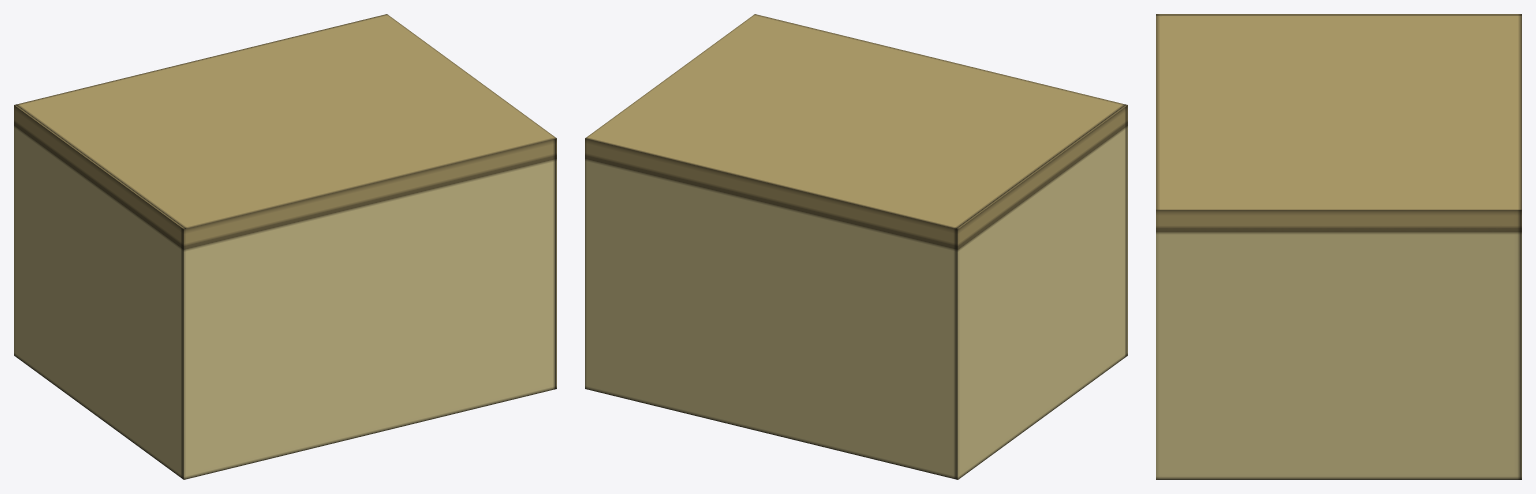
Rendered from case2.fbx.
3 views of the same model, side by side, from view 1: azimuth 30°, elevation 25°; view 2: azimuth 150°, elevation 25°; view 3: azimuth 270°, elevation 25° (orthographic). The views are drawn at different scales.
Visible parts, largest first — view 1: polySurface1561; view 2: polySurface1561; view 3: polySurface1561.
Boxes of the visible parts, x1,y1,x2,y2 form: polySurface1561: [14, 14, 556, 479]; polySurface1561: [585, 14, 1127, 479]; polySurface1561: [1156, 14, 1521, 479].
Bounding box in the file's own units: 0.3513 × 0.2256 × 0.277.
